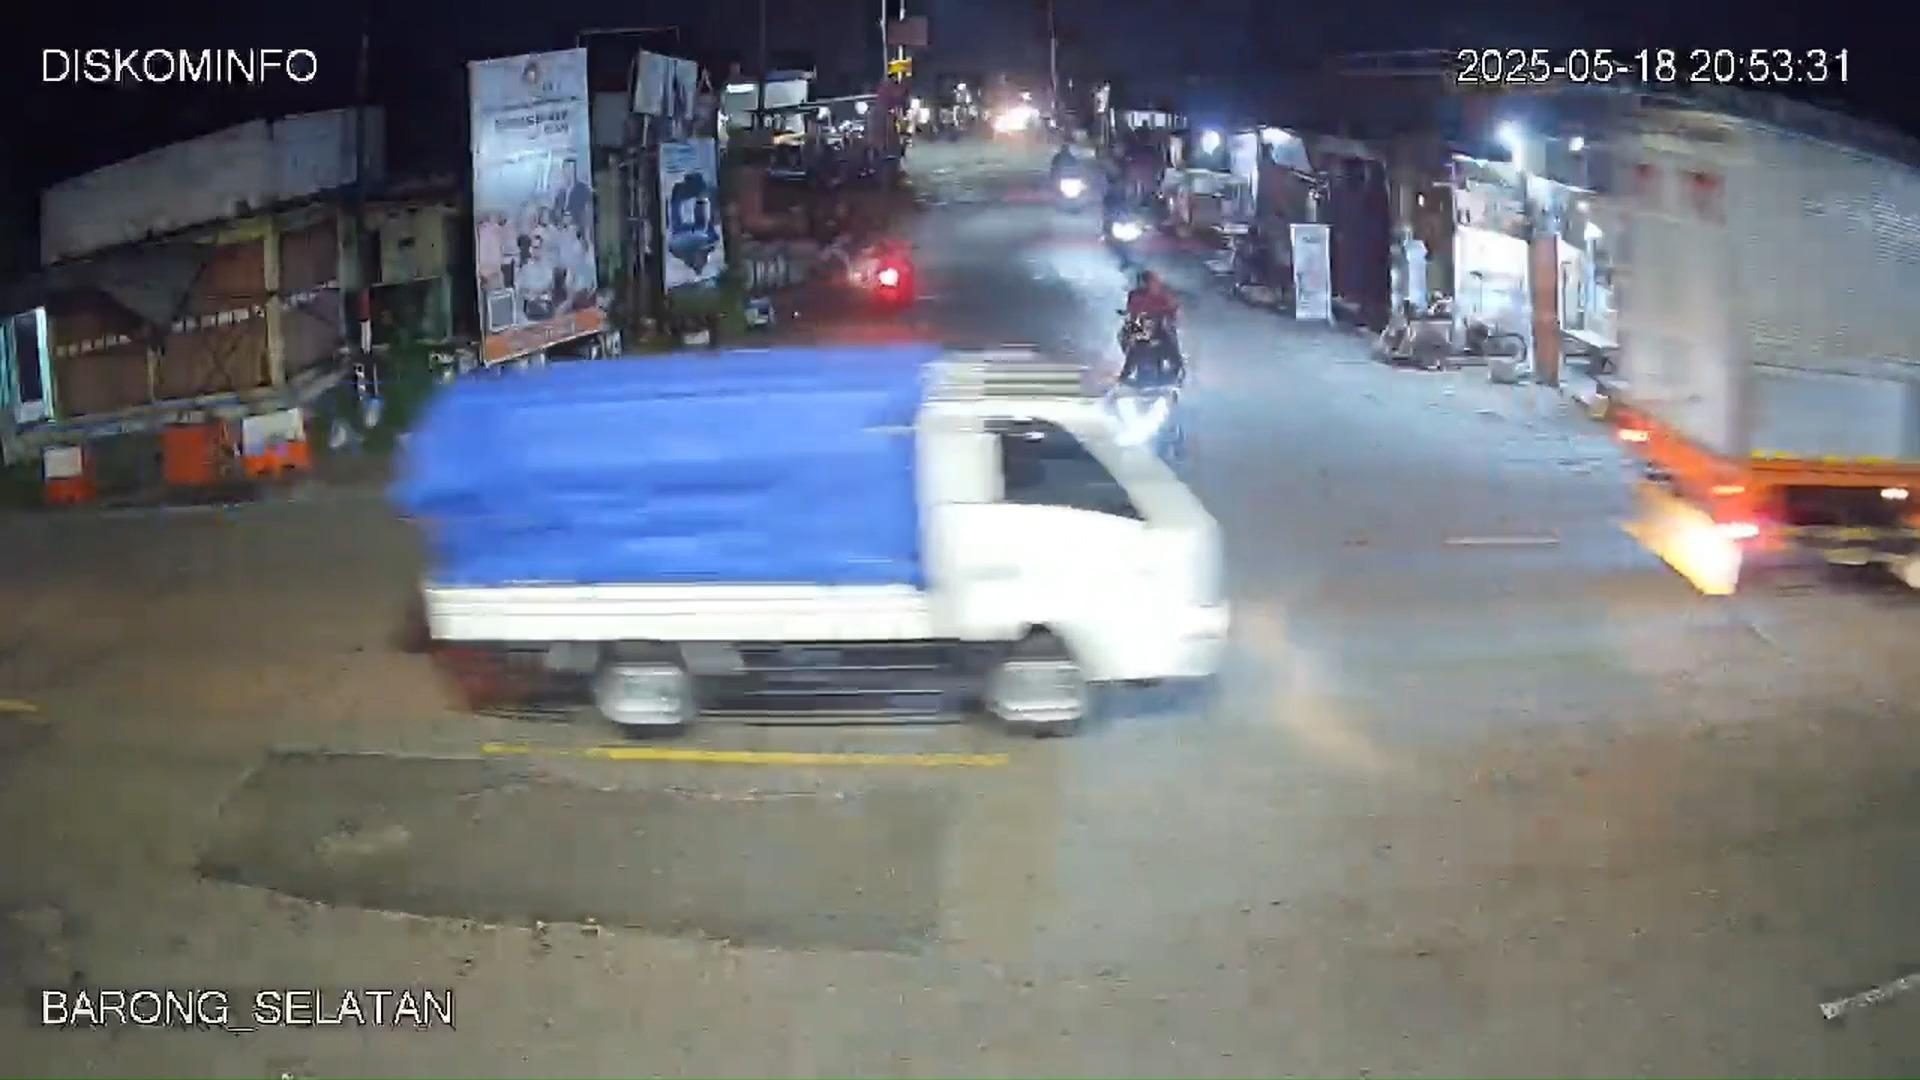Motor: (1116, 269, 1187, 392)
Truck: (400, 348, 1200, 744)
